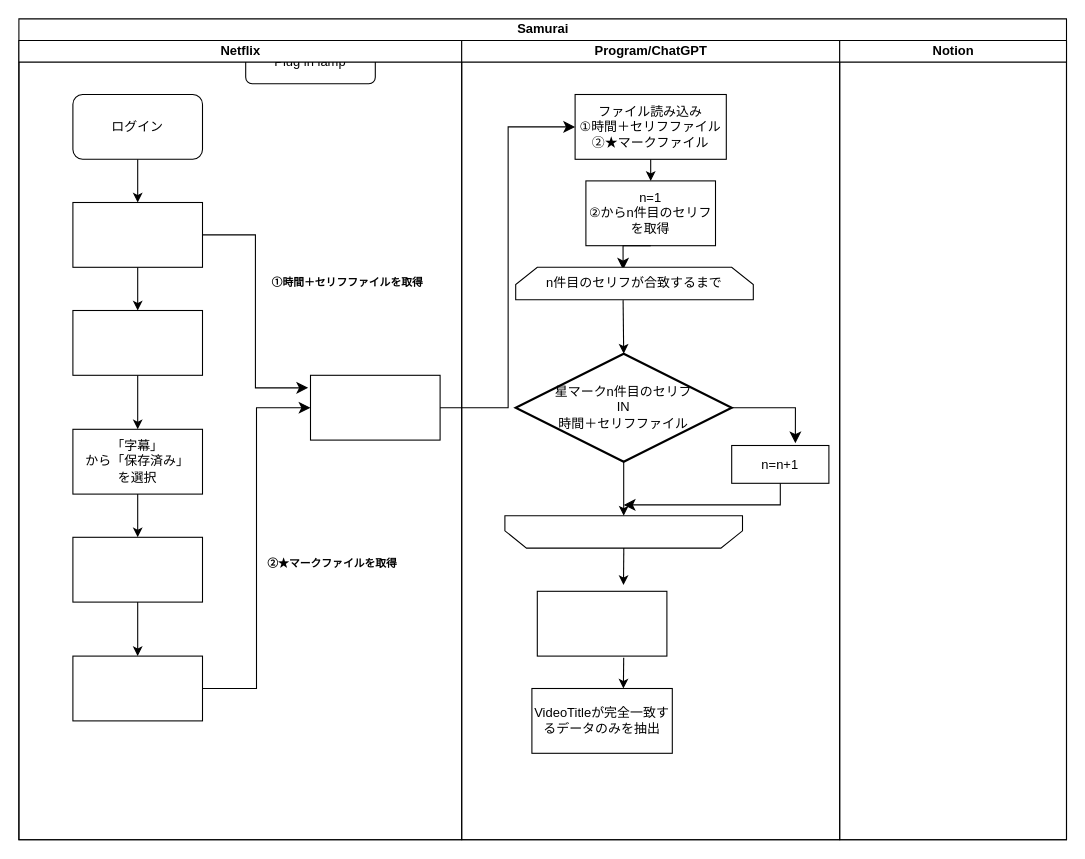
The diagram is 1085 pixels wide and 859 high, and some of its shapes have lost their labels. The shapes that lost their labels are listed below. From the top down, each one's centre as x and y in pixels, then its label:
At [137,234]: "映画の選択".
At [137,342]: "セリフに★マークを登録".
At [374,407]: "「エクスポート」を入力し、Excel形式で ファイルをDL".
At [137,569]: "「すべてを見る」 を選択".
At [601,623]: "星マークにあるVideoTitleを取り出す".
At [137,688]: "LanguageReactorが起動".
